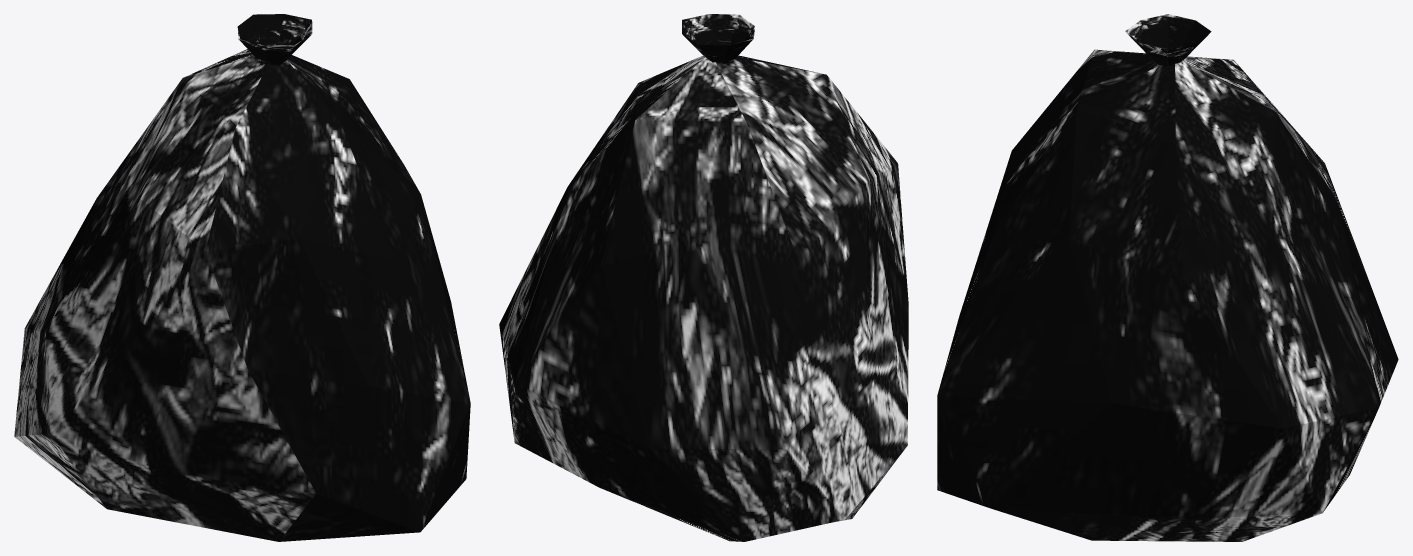
The model's file is garbagebag.glb.
3 views of the same model, side by side, from view 1: azimuth 30°, elevation 25°; view 2: azimuth 150°, elevation 25°; view 3: azimuth 270°, elevation 25° (orthographic). The views are drawn at different scales.
Parts seen in each view (by area): view 1: Icosphere; view 2: Icosphere; view 3: Icosphere.
Boxes of the visible parts, x1,y1,x2,y2 form: Icosphere: [14, 14, 470, 541]; Icosphere: [499, 14, 908, 541]; Icosphere: [937, 14, 1398, 541].
Bounding box in the file's own units: 2.45 × 3.01 × 2.51.
Materials: 1 (1 with a texture image).
